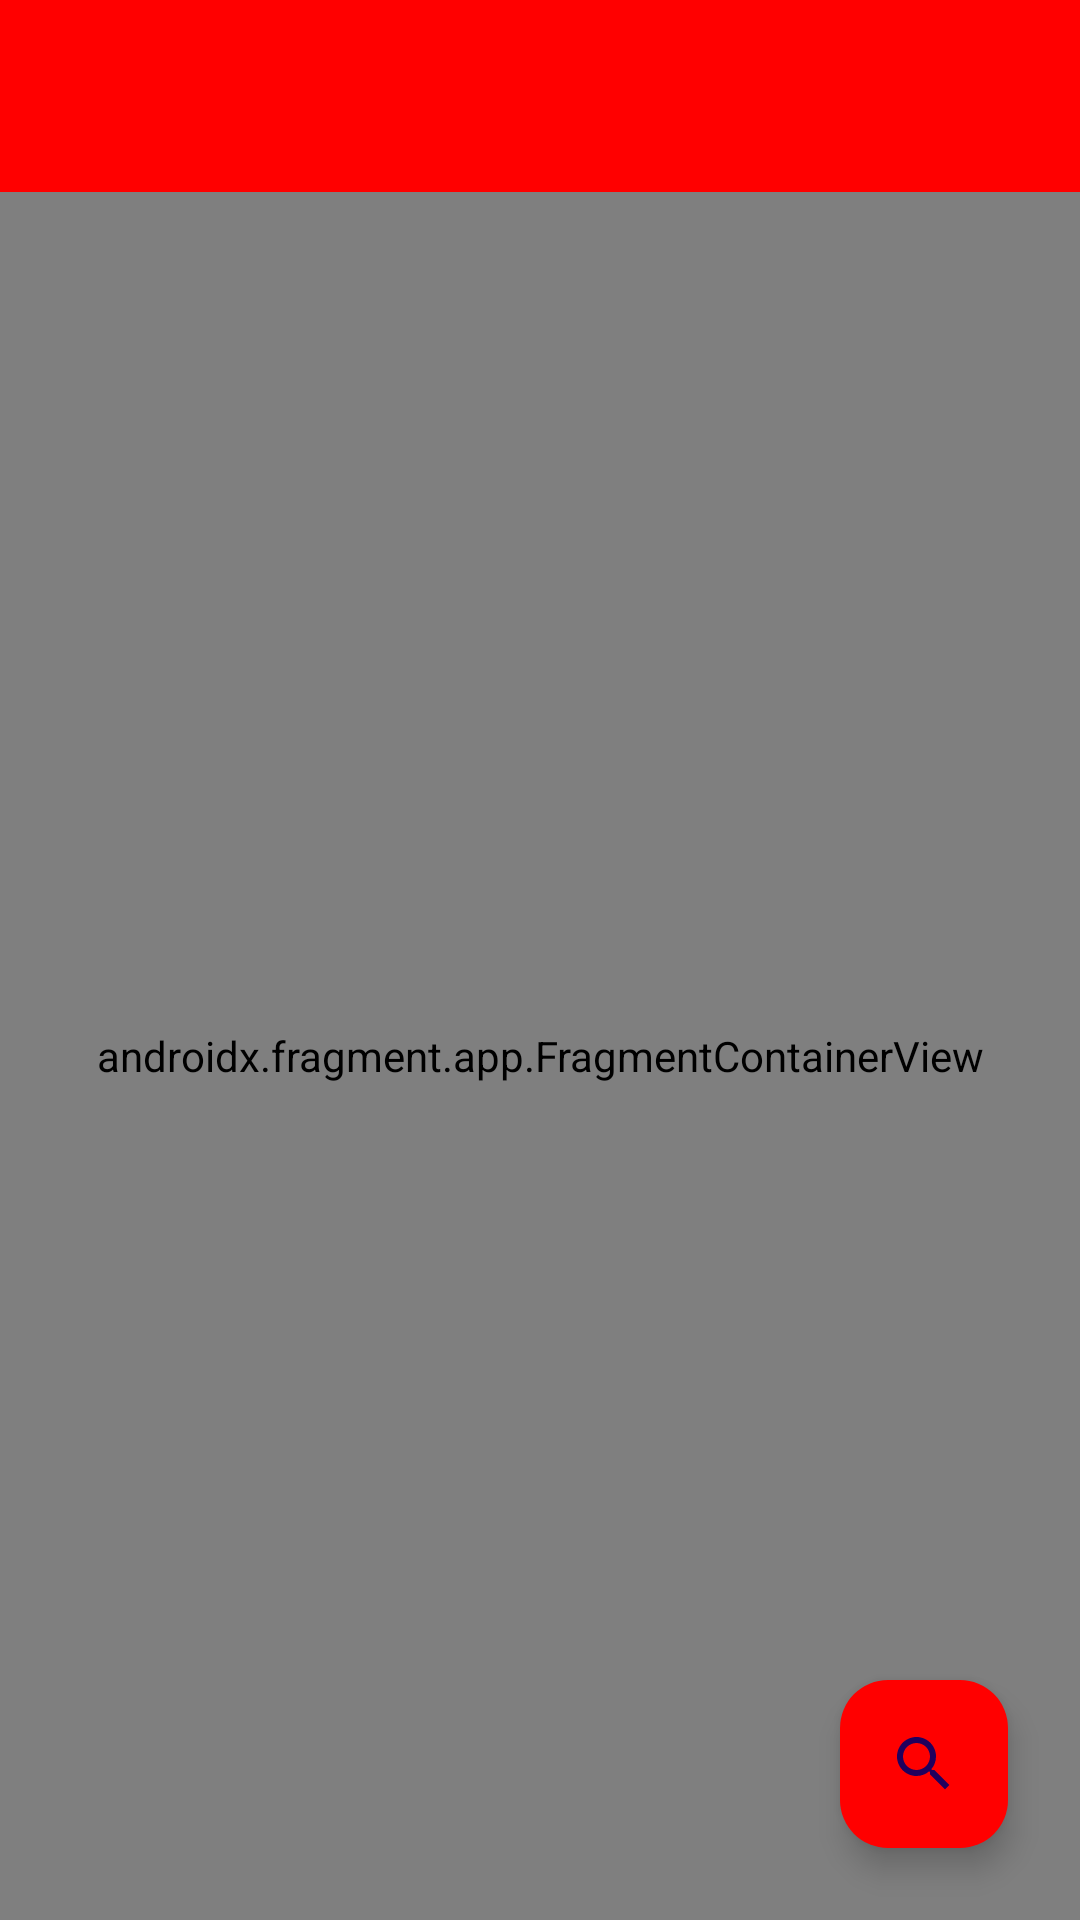

Icon bounding boxes for this 1080w x 1920h phone screenshot, format (x1, y1, x2, y2):
search custom: (840, 1680, 1008, 1848)
